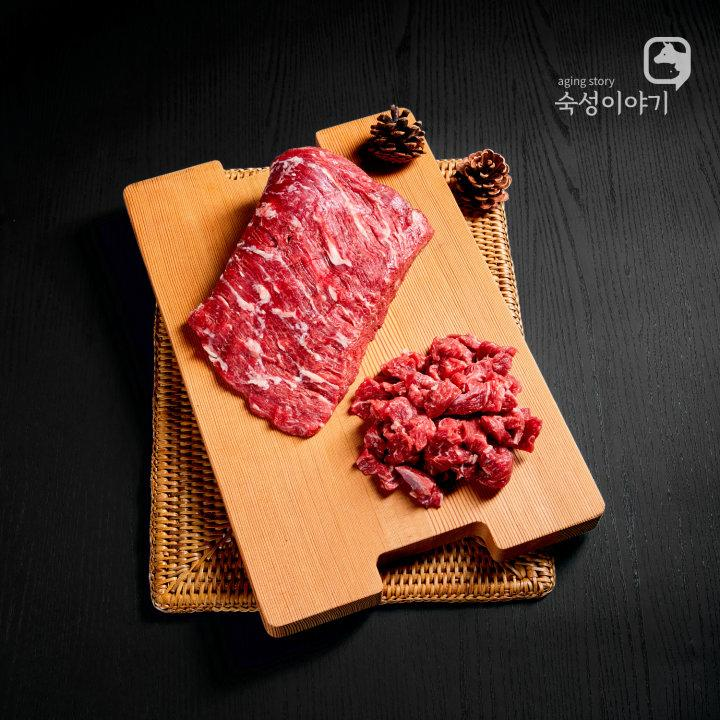beef: (243, 211, 476, 468), (414, 382, 606, 568)
